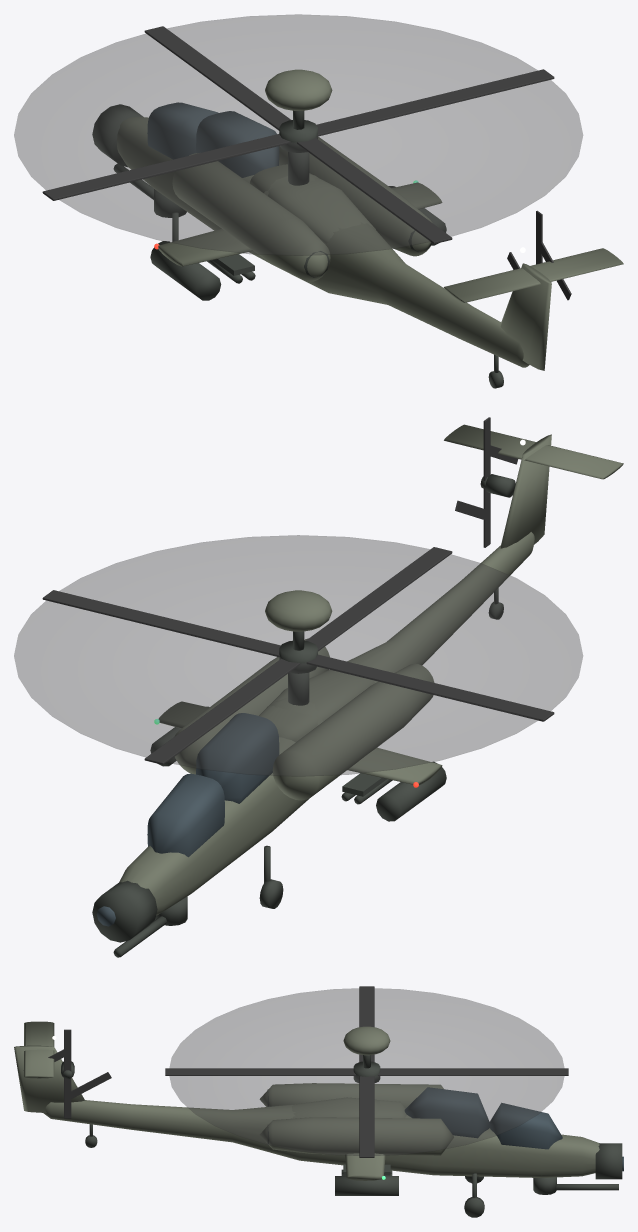
File: helicopter.glb
3 renders of one model, top to bottom at view 1: azimuth 30°, elevation 25°; view 2: azimuth 150°, elevation 25°; view 3: azimuth 270°, elevation 25°, orthographic. The views are drawn at different scales.
Visible parts, largest first — view 1: MainRotorBlur, Apache, MainRotor, TailRotor; view 2: MainRotorBlur, Apache, MainRotor, TailRotor; view 3: MainRotorBlur, Apache, MainRotor, TailRotor.
Boxes of the visible parts, box(x1,y1,x2,y2) form: MainRotorBlur: box(14, 14, 582, 255); Apache: box(92, 69, 623, 388); MainRotor: box(42, 26, 554, 243); TailRotor: box(507, 210, 571, 300); MainRotorBlur: box(14, 535, 582, 776); Apache: box(92, 424, 623, 957); MainRotor: box(42, 547, 554, 764); TailRotor: box(455, 417, 518, 547); MainRotorBlur: box(169, 988, 564, 1155); Apache: box(14, 1021, 623, 1217); MainRotor: box(165, 986, 568, 1157); TailRotor: box(23, 1029, 111, 1118).
Bounding box in the file's own units: 9.6 × 4.67 × 14.52.
